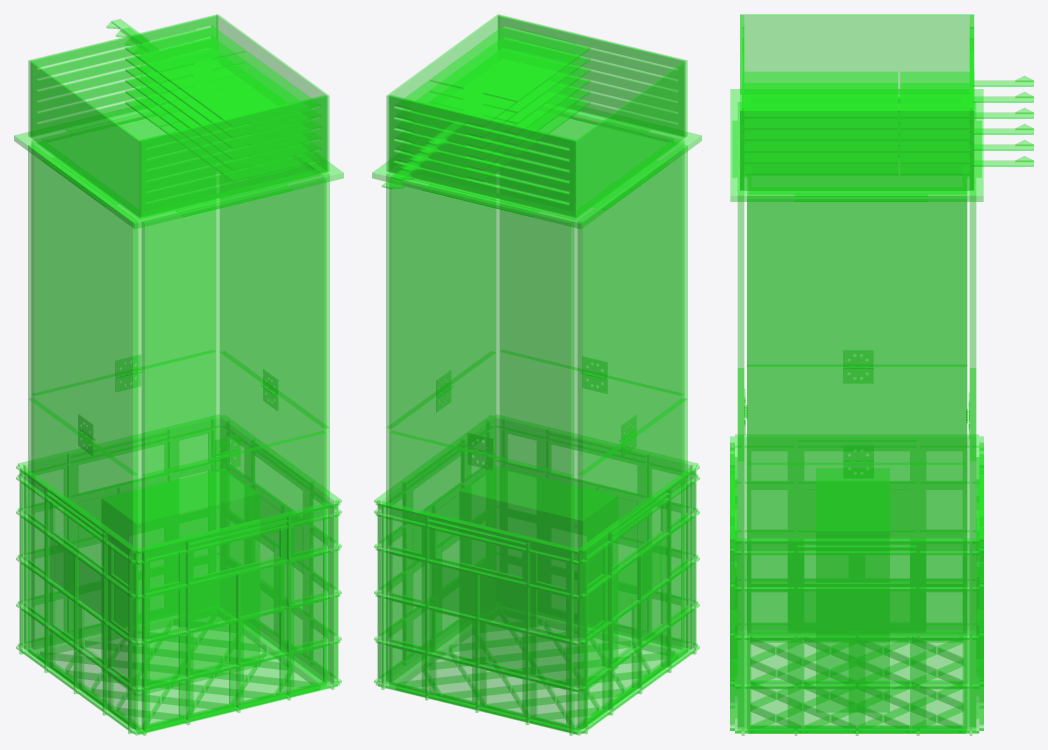
Rendered from gracie.glb.
3 views of the same model, side by side, from view 1: azimuth 30°, elevation 25°; view 2: azimuth 150°, elevation 25°; view 3: azimuth 270°, elevation 25° (orthographic). The views are drawn at different scales.
Parts seen in each view (by area): view 1: Layer_01; view 2: Layer_01; view 3: Layer_01.
Part boxes in pixels (box(x1,y1,x2,y2)): Layer_01: box(14, 14, 343, 735); Layer_01: box(372, 14, 701, 735); Layer_01: box(730, 14, 1033, 735).
Size of the model in its own units: 346 by 940 by 414.
